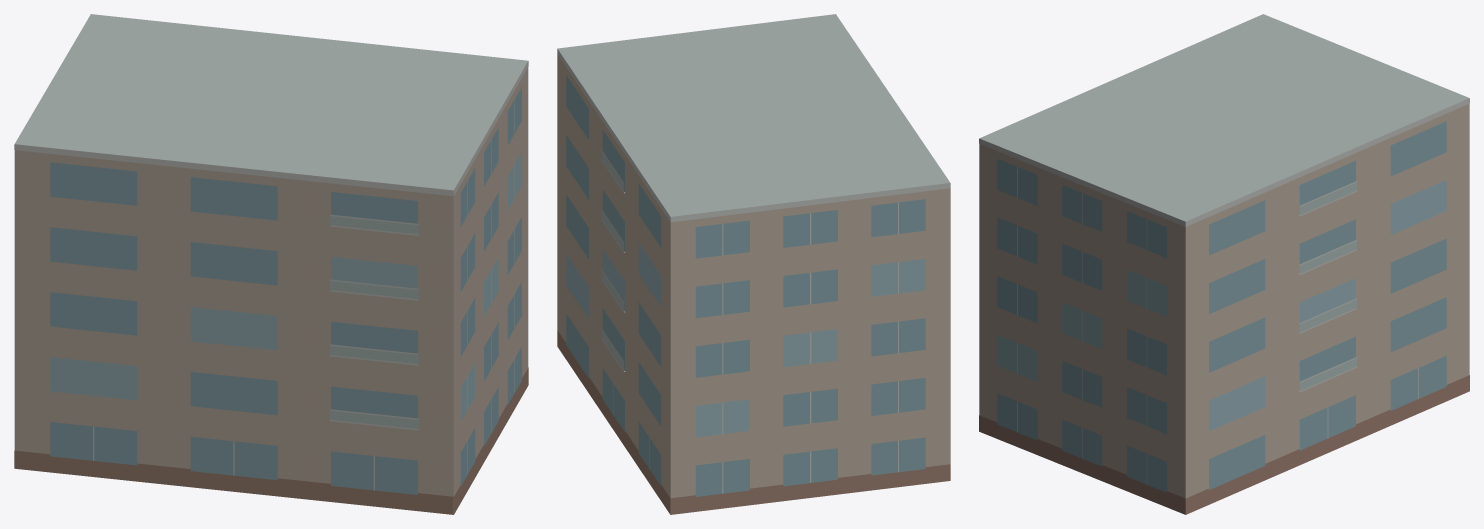
Rendered from survey-upis-32867932.glb.
3 views of the same model, side by side, from view 1: azimuth 30°, elevation 25°; view 2: azimuth 150°, elevation 25°; view 3: azimuth 270°, elevation 25° (orthographic). The views are drawn at different scales.
Visible parts, largest first — view 1: survey-upis-32867932.tmp; view 2: survey-upis-32867932.tmp; view 3: survey-upis-32867932.tmp.
Part boxes in pixels (bbox=[...]): survey-upis-32867932.tmp: bbox=[14, 14, 528, 514]; survey-upis-32867932.tmp: bbox=[557, 14, 950, 514]; survey-upis-32867932.tmp: bbox=[979, 14, 1469, 514].
Bounding box in the file's own units: 20.37 × 13.4 × 20.33.
